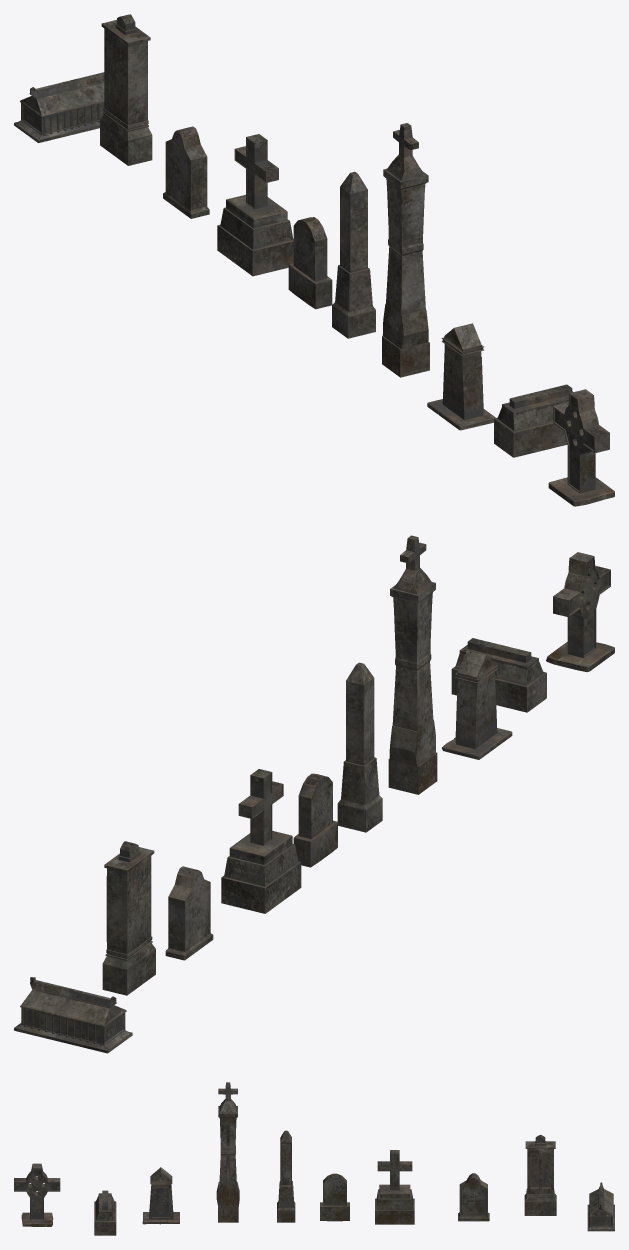
Rendered from grave-stones.glb.
3 renders of one model, top to bottom at view 1: azimuth 30°, elevation 25°; view 2: azimuth 150°, elevation 25°; view 3: azimuth 270°, elevation 25°, orthographic. The views are drawn at different scales.
Visible parts, largest first — view 1: defaultMaterial (×10); view 2: defaultMaterial (×10); view 3: defaultMaterial (×10).
Boxes of the visible parts, x1=… form: defaultMaterial (×10): x1=14, y1=14, x2=614, y2=506; defaultMaterial (×10): x1=14, y1=535, x2=614, y2=1053; defaultMaterial (×10): x1=14, y1=1082, x2=614, y2=1235.
Size of the model in its own units: 895 by 1930 by 7684.
1 material, 1 textured.
